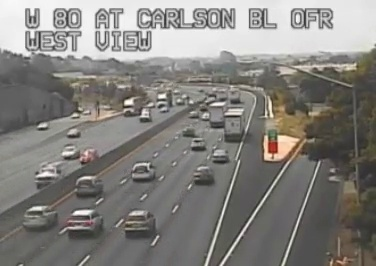car: (23, 206, 58, 229), (67, 209, 101, 232), (124, 210, 154, 234), (74, 176, 103, 195), (131, 162, 153, 179), (193, 166, 212, 184), (211, 149, 227, 163), (191, 138, 205, 150)
truck: (225, 108, 244, 142), (208, 102, 226, 126)
